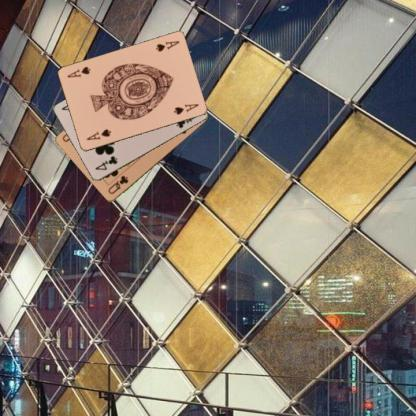4c: (92, 154, 118, 172)
As: (84, 127, 112, 142), (153, 39, 180, 53)
Qc: (105, 173, 130, 196)
